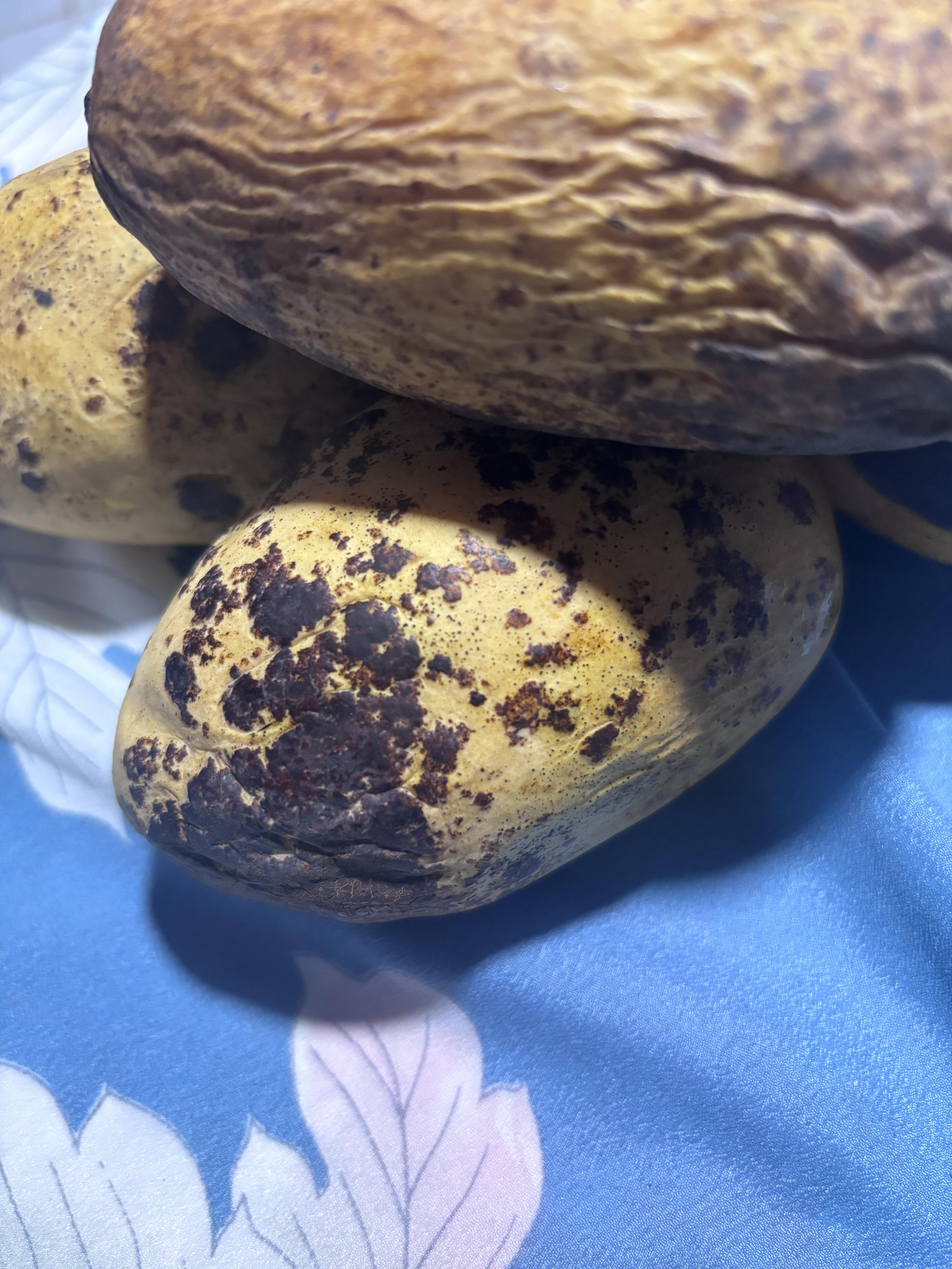occluded: (89, 0, 952, 453), (116, 400, 840, 921), (0, 149, 376, 544)
